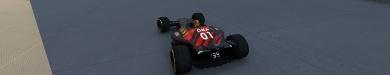Car: (156, 12, 249, 74)
obstacles-Borders: (0, 0, 55, 74)
